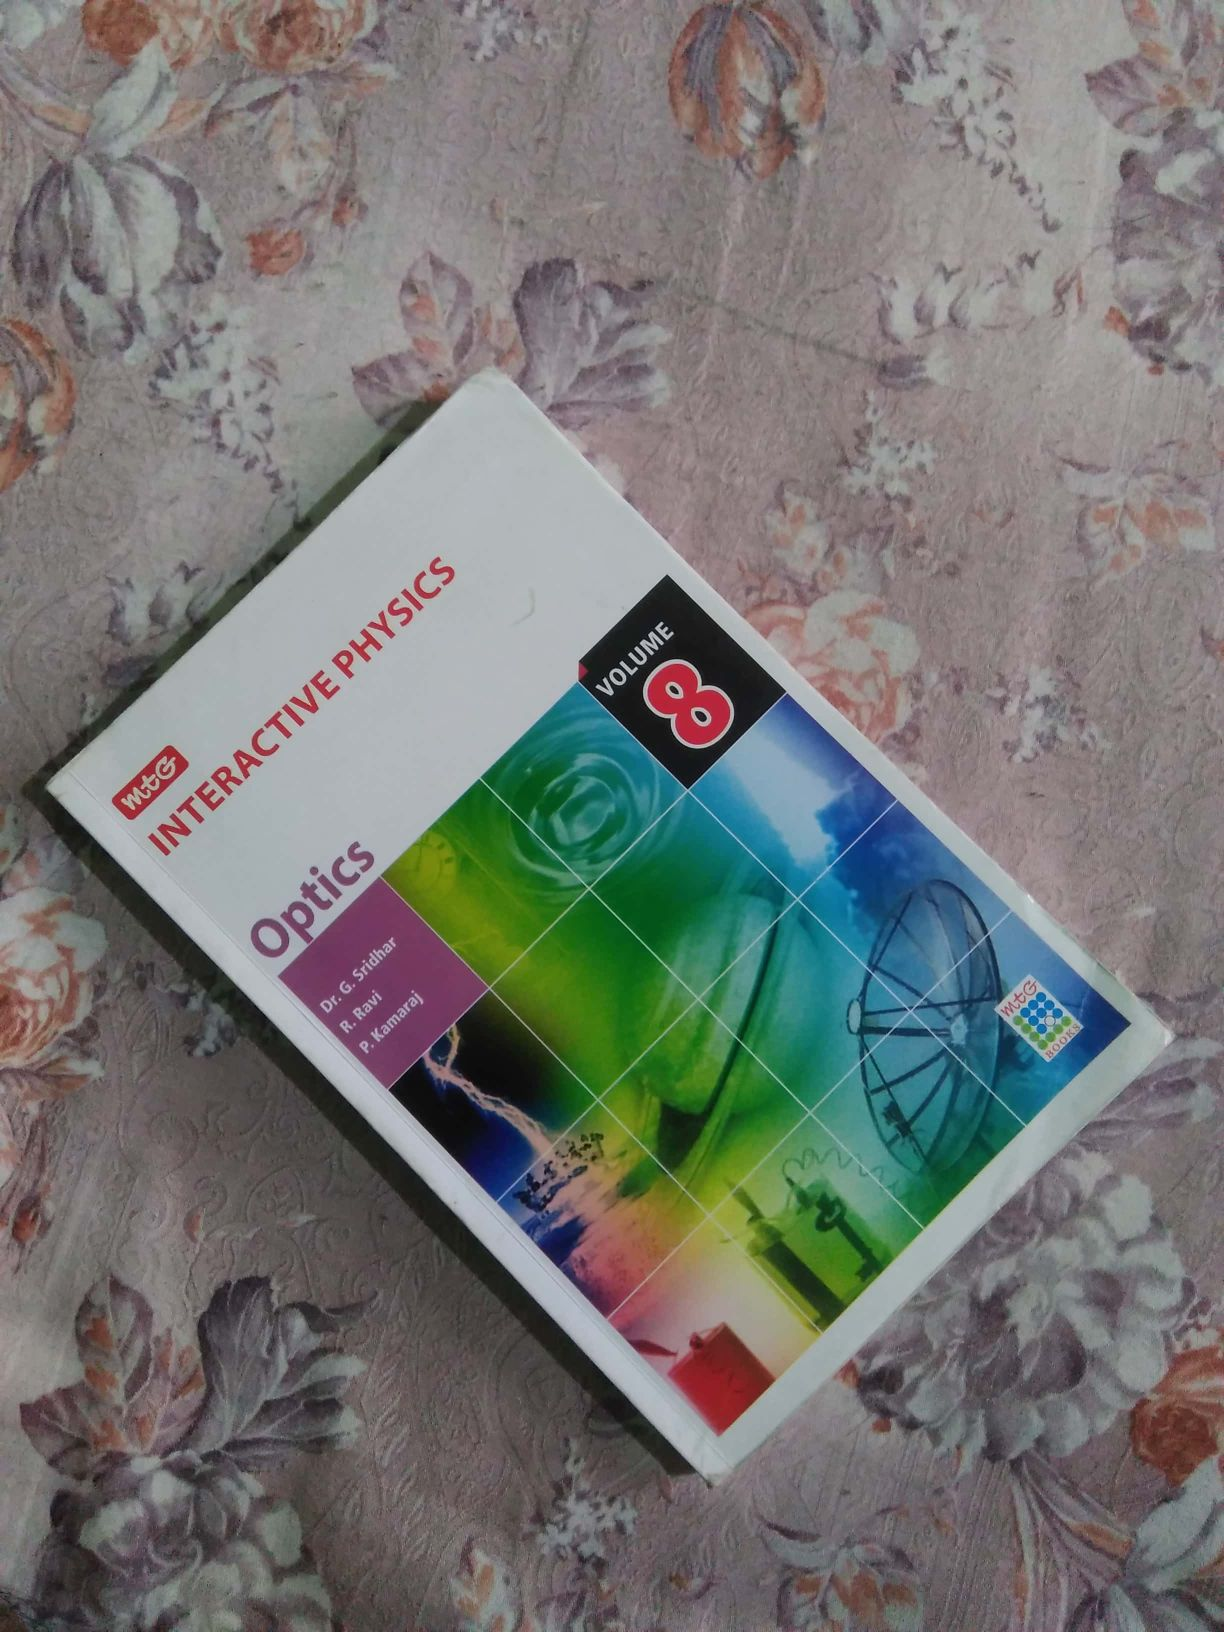optics: (66, 436, 1178, 1414)
